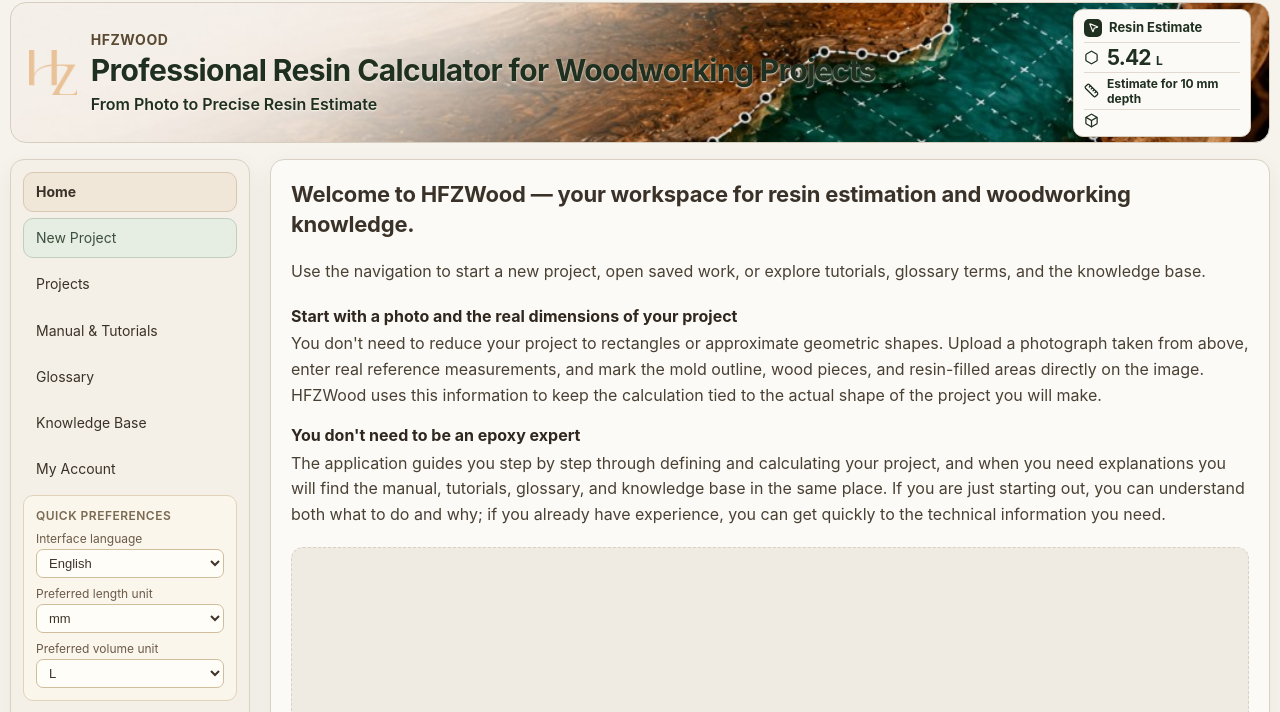
Test: Quick preferences controls › switches the interface language from the quick controls
Select "Română" in the dropdown labelled "Interface language" at x=130, y=564, box [36,549,224,578]
(page scrolled)
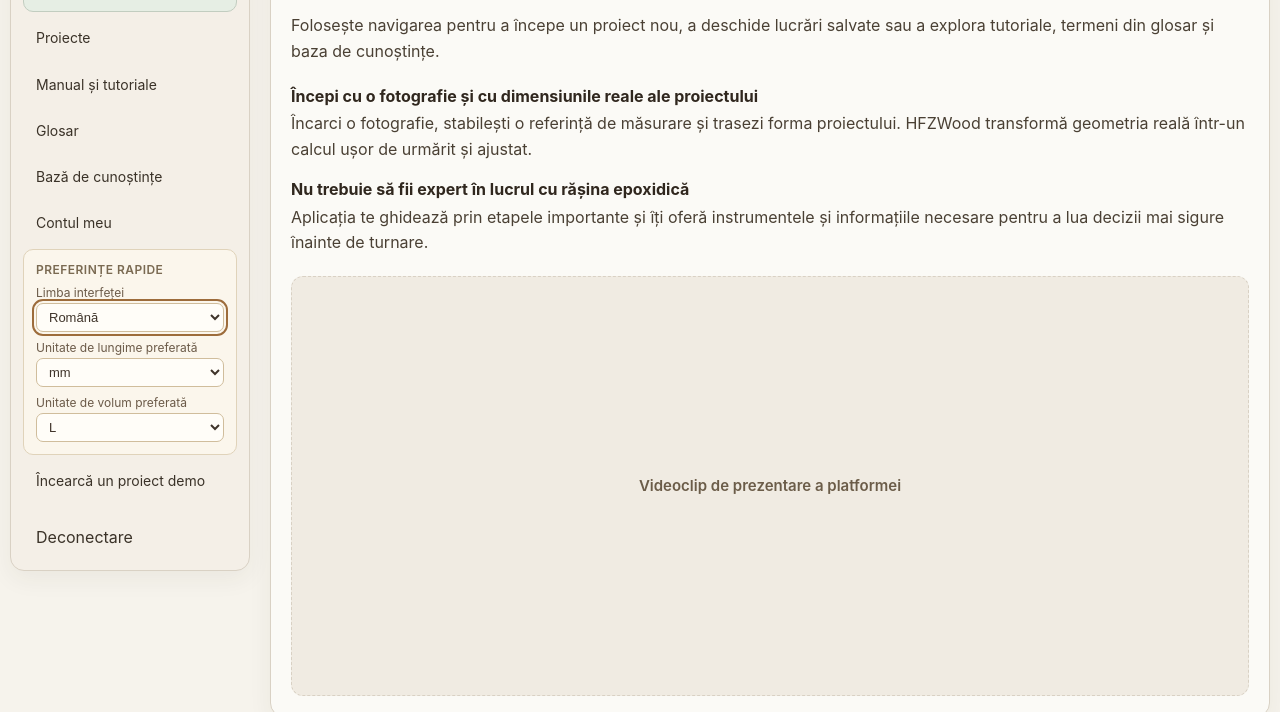
Expected: the element "Preferințe rapide" is shown, [23,249,237,455]
